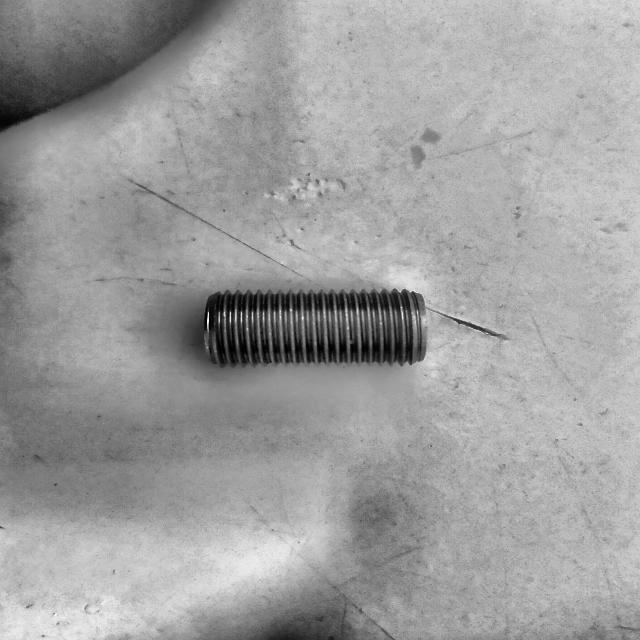Normal: (200, 287, 431, 370)
